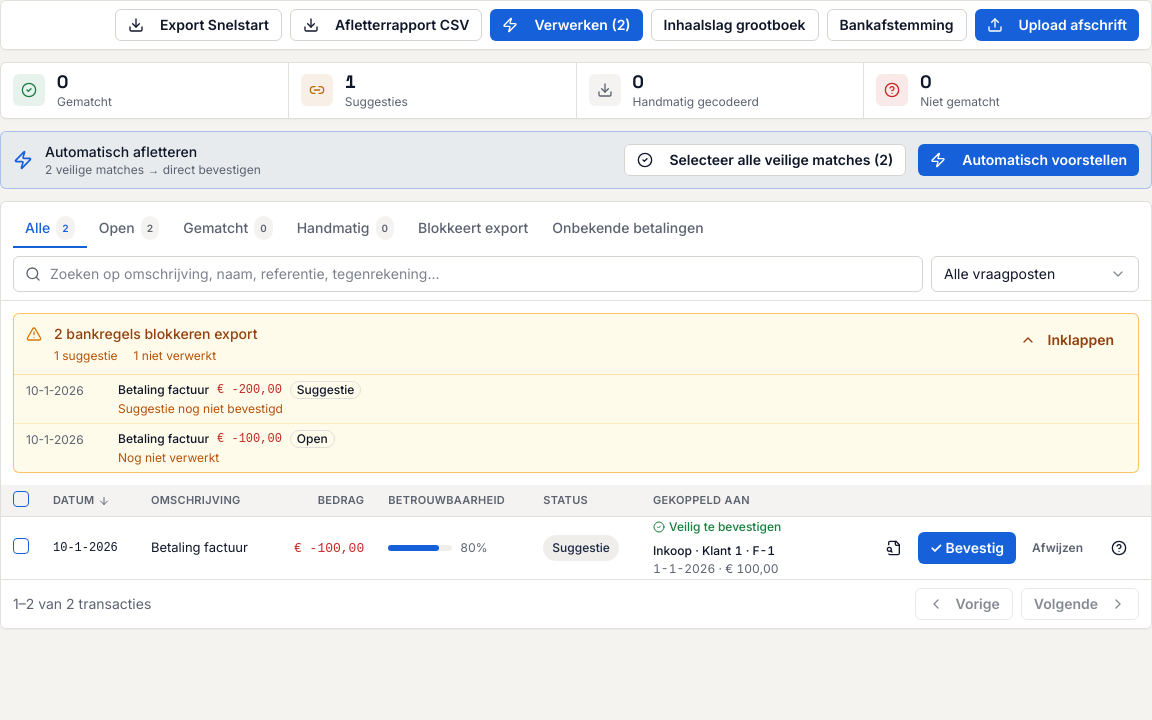
it: Bank — veilige matches (banner + selectieknop) › selecteert veilige ids, ook die niet op de huidige pagina staan, en wordt daarna disabled
The width and height of the screenshot is (1152, 720).
Click the button "Selecteer alle veilige matches (2)" at (765, 160), box [624,144,906,176]
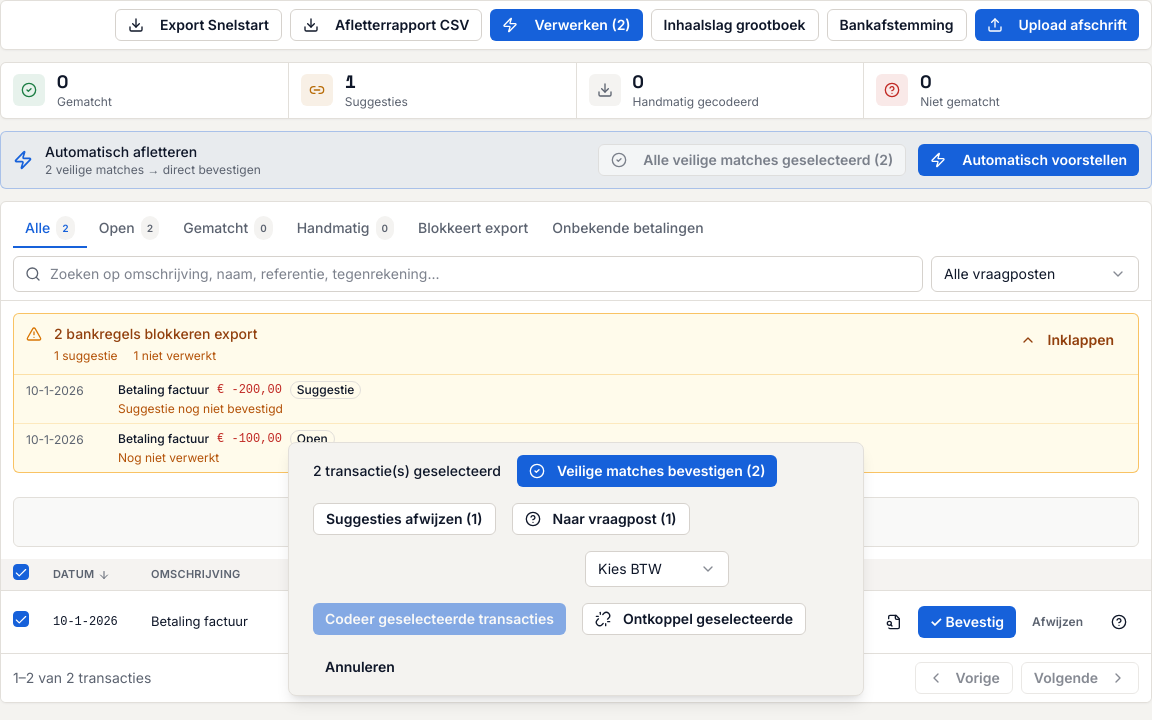
Expected: the text "2 transactie(s) geselecteerd" is shown, [313,461,501,481]
Expected: the button "Alle veilige matches geselecteerd (2)" is disabled, [598,144,906,176]
